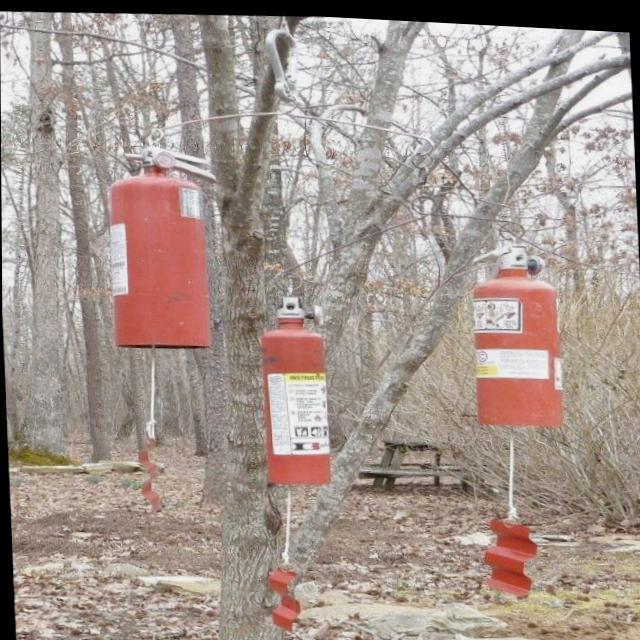FireExtinguisher: (95, 113, 231, 360), (458, 208, 577, 429), (252, 263, 337, 488)
